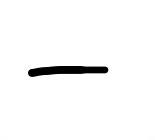minus: (28, 66, 108, 77)
